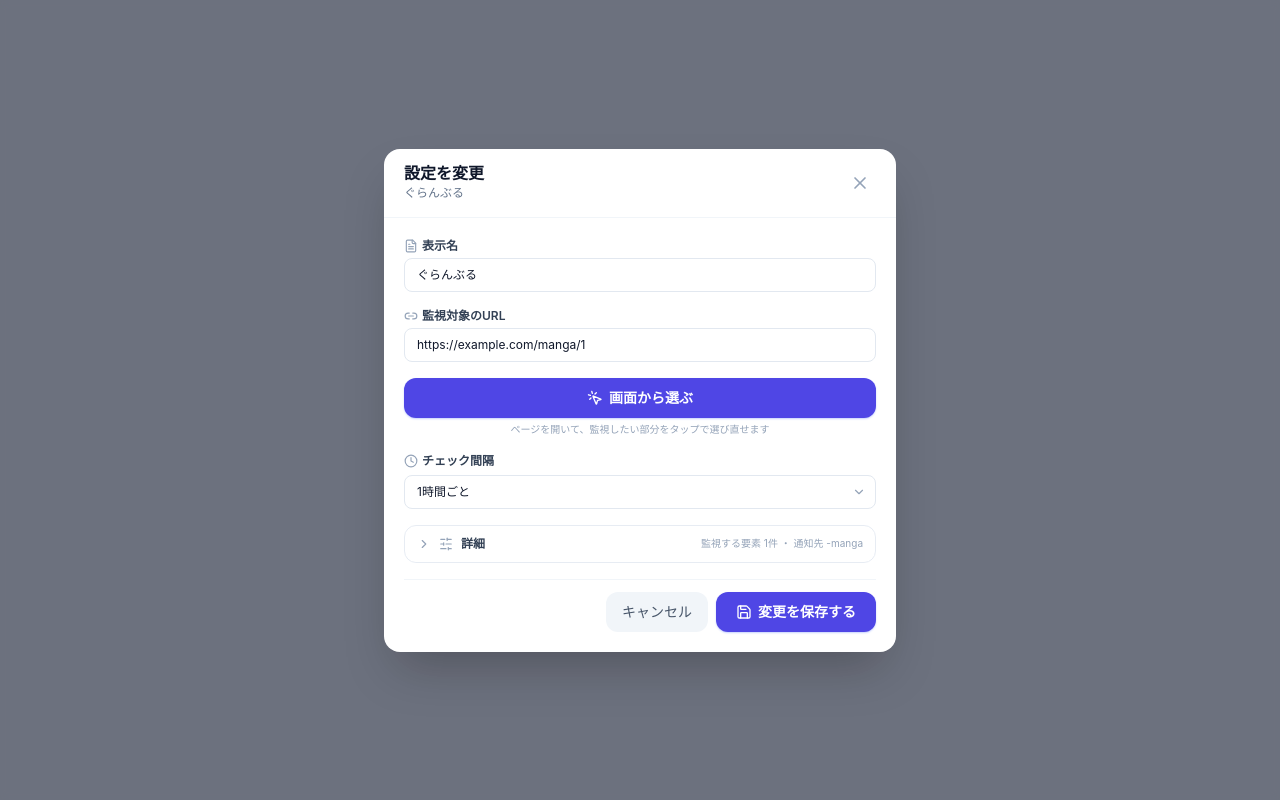
Test: EditWatchModal › prefills every current setting, URL included
This screenshot has width=1280, height=800.
Check: the field showing "https://example.com/manga/1" below "監視対象のURL" is shown, box x1=404 y1=328 x2=876 y2=362
Check: the field showing "ぐらんぶる" below "表示名" is shown, box x1=404 y1=258 x2=876 y2=292
Click the text "詳細". click: (473, 544)
box: x1=461 y1=536 x2=485 y2=552
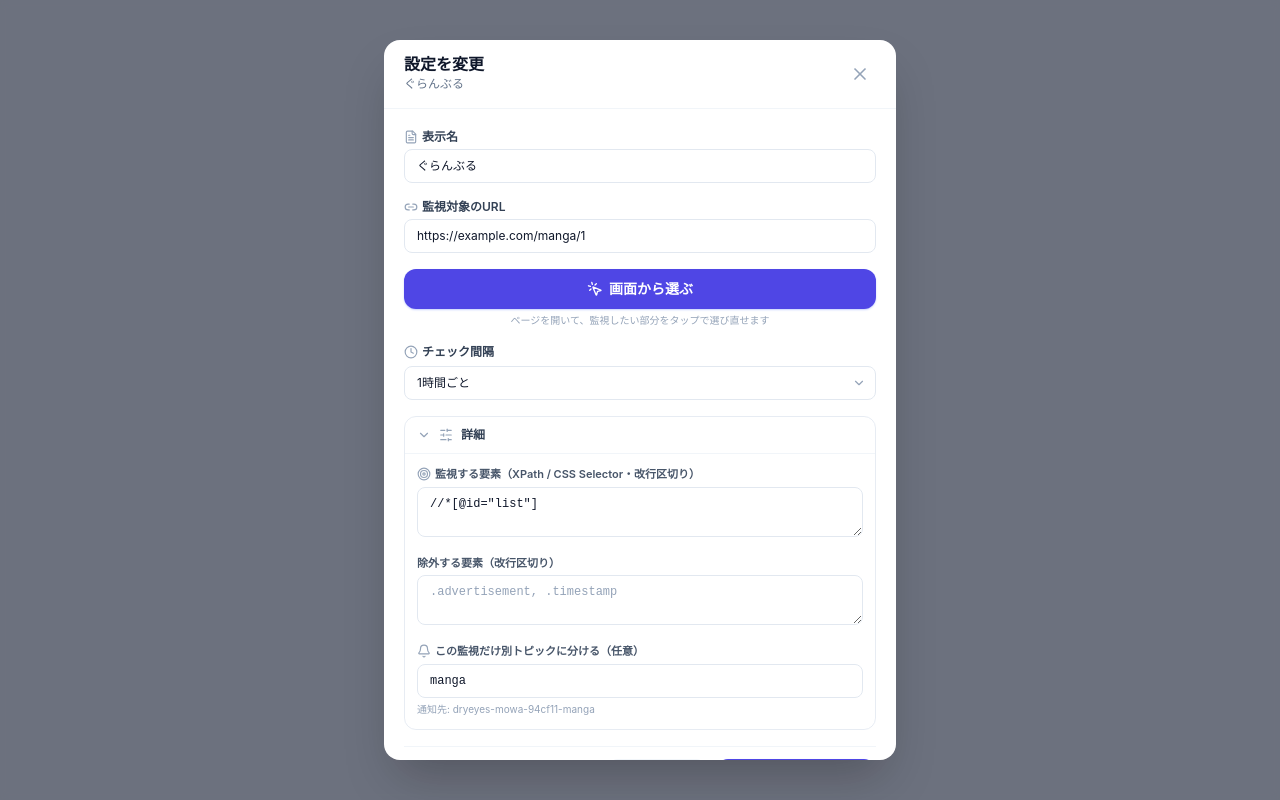
Check: the text box showing "//*[@id=\"list\"]" is shown, box x1=417 y1=486 x2=863 y2=536
Check: the field showing "manga" below "この監視だけ別トピックに分ける（任意）" is shown, box x1=417 y1=664 x2=863 y2=698
